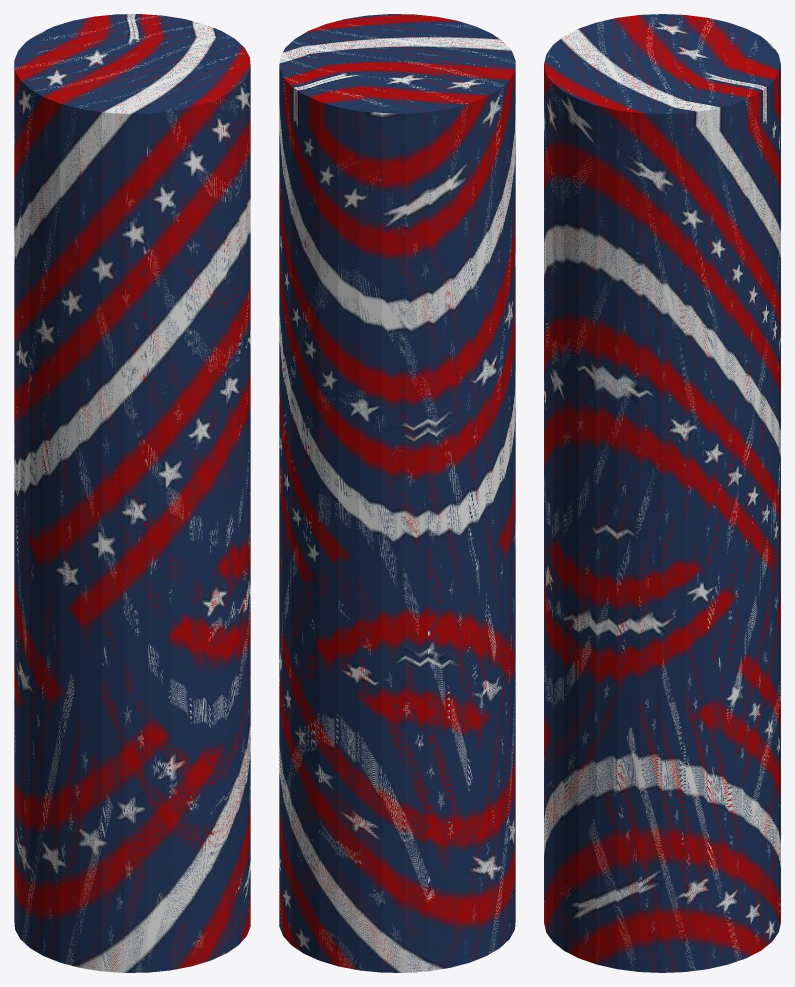
Rendered from sparkler.fbx.
3 views of the same model, side by side, from view 1: azimuth 30°, elevation 25°; view 2: azimuth 150°, elevation 25°; view 3: azimuth 270°, elevation 25° (orthographic).
Parts seen in each view (by area): view 1: Cylinder; view 2: Cylinder; view 3: Cylinder.
Part boxes in pixels (x1=…): Cylinder: x1=14, y1=14, x2=250, y2=972; Cylinder: x1=279, y1=14, x2=515, y2=972; Cylinder: x1=544, y1=14, x2=780, y2=972.
Size of the model in its own units: 100 by 400 by 100.
1 material, 1 textured.
